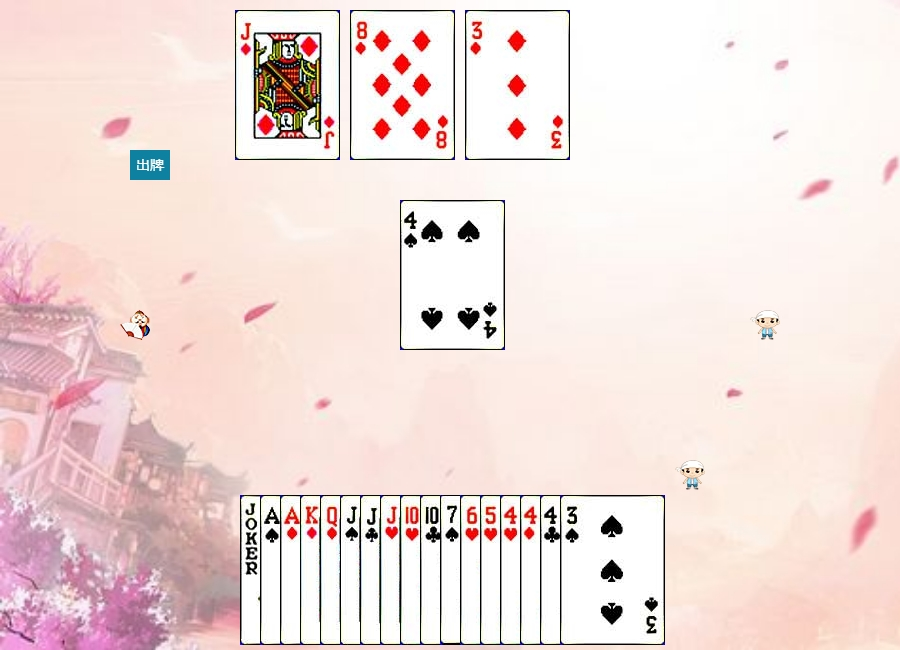10~2: (420, 495, 525, 645)
10~3: (400, 495, 505, 645)
11~1: (235, 10, 340, 160)
11~2: (360, 495, 465, 645)
11~3: (380, 495, 485, 645)
11~4: (340, 495, 445, 645)
12~1: (320, 495, 425, 645)
13~1: (300, 495, 405, 645)
14~1: (280, 495, 385, 645)
14~4: (260, 495, 365, 645)
17~3: (240, 495, 345, 645)
3~1: (465, 10, 570, 160)
3~4: (560, 495, 665, 645)
4~1: (520, 495, 625, 645)
4~2: (540, 495, 645, 645)
4~3: (500, 495, 605, 645)
4~4: (400, 200, 505, 350)
5~3: (480, 495, 585, 645)
6~3: (460, 495, 565, 645)
7~4: (440, 495, 545, 645)
8~1: (350, 10, 455, 160)
